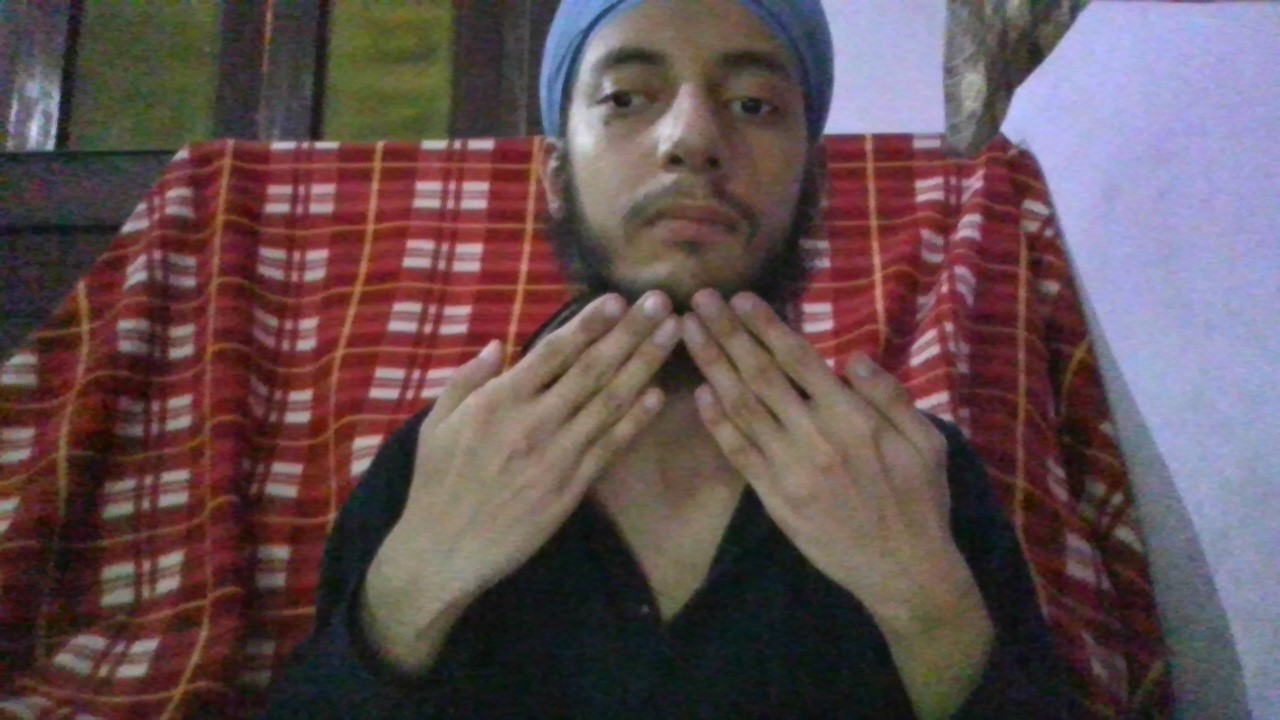Thank You: (417, 289, 957, 535)
